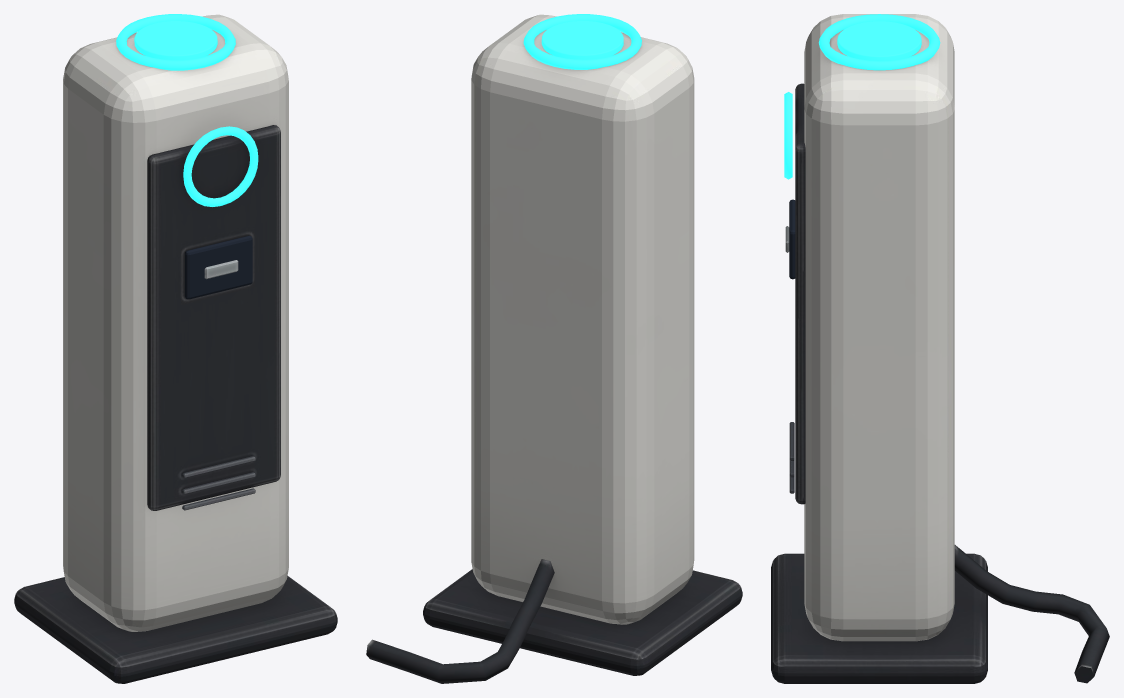
File: net_access_point.glb
3 views of the same model, side by side, from view 1: azimuth 30°, elevation 25°; view 2: azimuth 150°, elevation 25°; view 3: azimuth 270°, elevation 25° (orthographic). The views are drawn at different scales.
Parts seen in each view (by area): view 1: net_access_point_mesh; view 2: net_access_point_mesh; view 3: net_access_point_mesh.
Part boxes in pixels (x1,y1,x2,y2): net_access_point_mesh: (14, 14, 337, 683); net_access_point_mesh: (366, 14, 742, 683); net_access_point_mesh: (771, 14, 1109, 683).
Size of the model in its own units: 0.4407 by 1.09 by 0.5624.
Materials: 3 (1 with a texture image).
